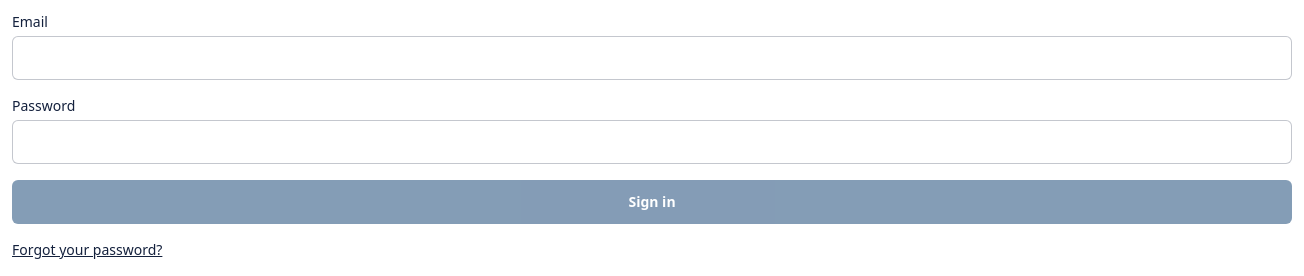
Test: LoginForm › second step › lets the person start over
Type "ada@example.test" into the field labelled "Email" at point(652, 58), box [12,36,1292,80]
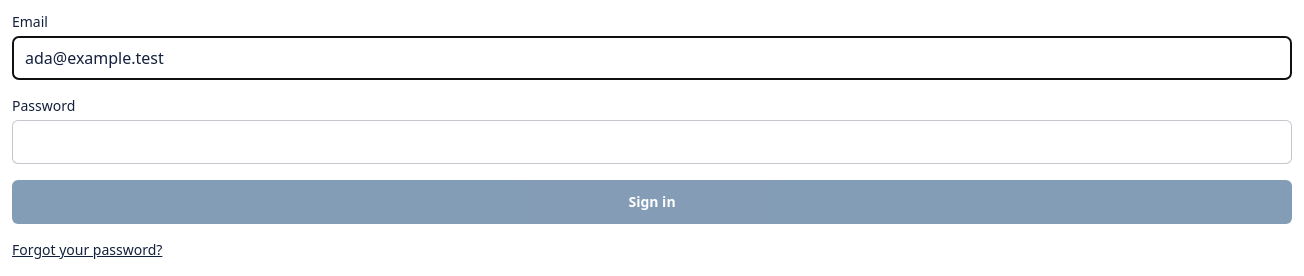
Type "Str0ng-Passphrase-1" into the password field labelled "Password" at point(652, 142), box [12,120,1292,164]
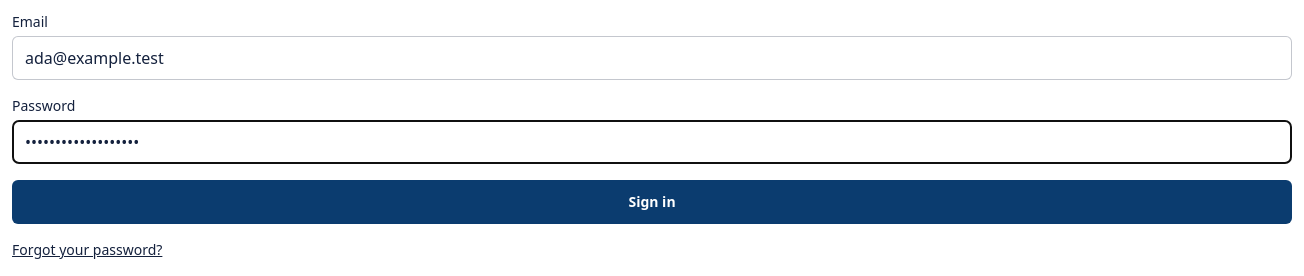
Click the button "Sign in" at point(652, 202), box [12,180,1292,224]
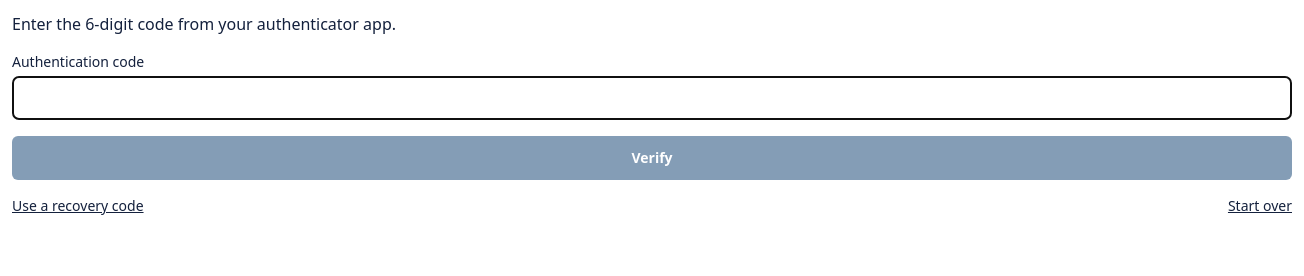
Click the button "Start over" at point(1260, 206), box [1228,196,1292,216]
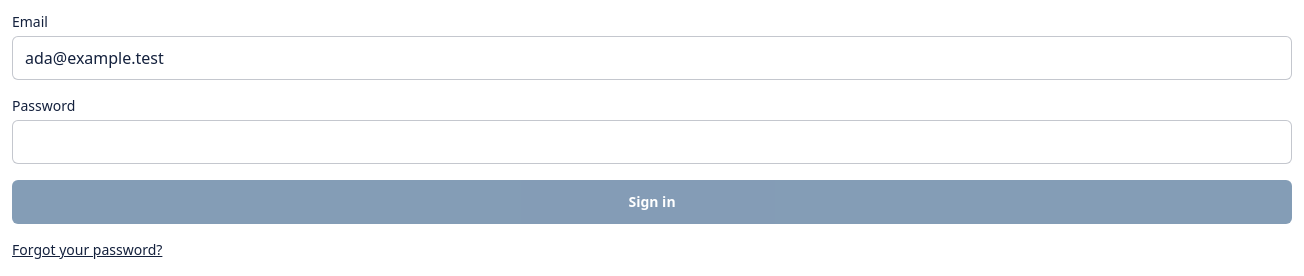
Check: the field labelled "Email" is shown, box [12,36,1292,80]
